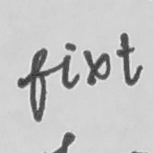f: (27, 46, 52, 122)
i: (58, 40, 79, 91)
t: (114, 30, 145, 88)
x: (80, 48, 112, 88)
